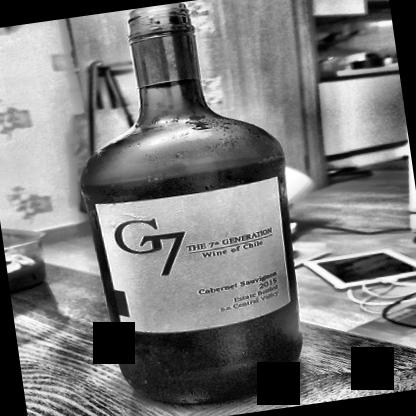G7: (95, 176, 299, 344)
